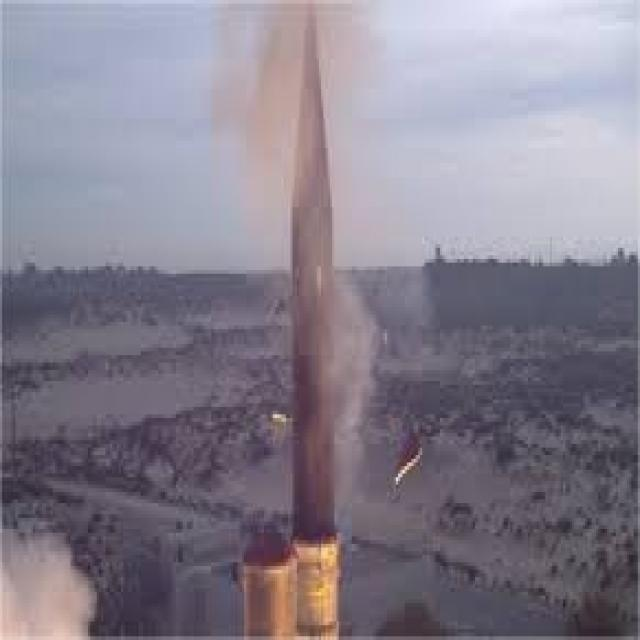missile: (290, 9, 339, 544)
